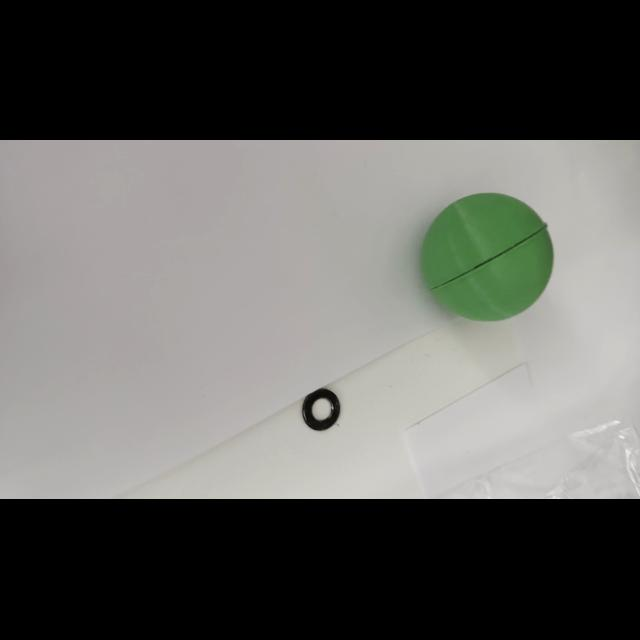objects: (419, 187, 555, 325)
